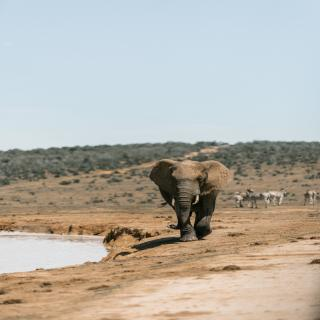Elephant: (150, 156, 233, 243)
